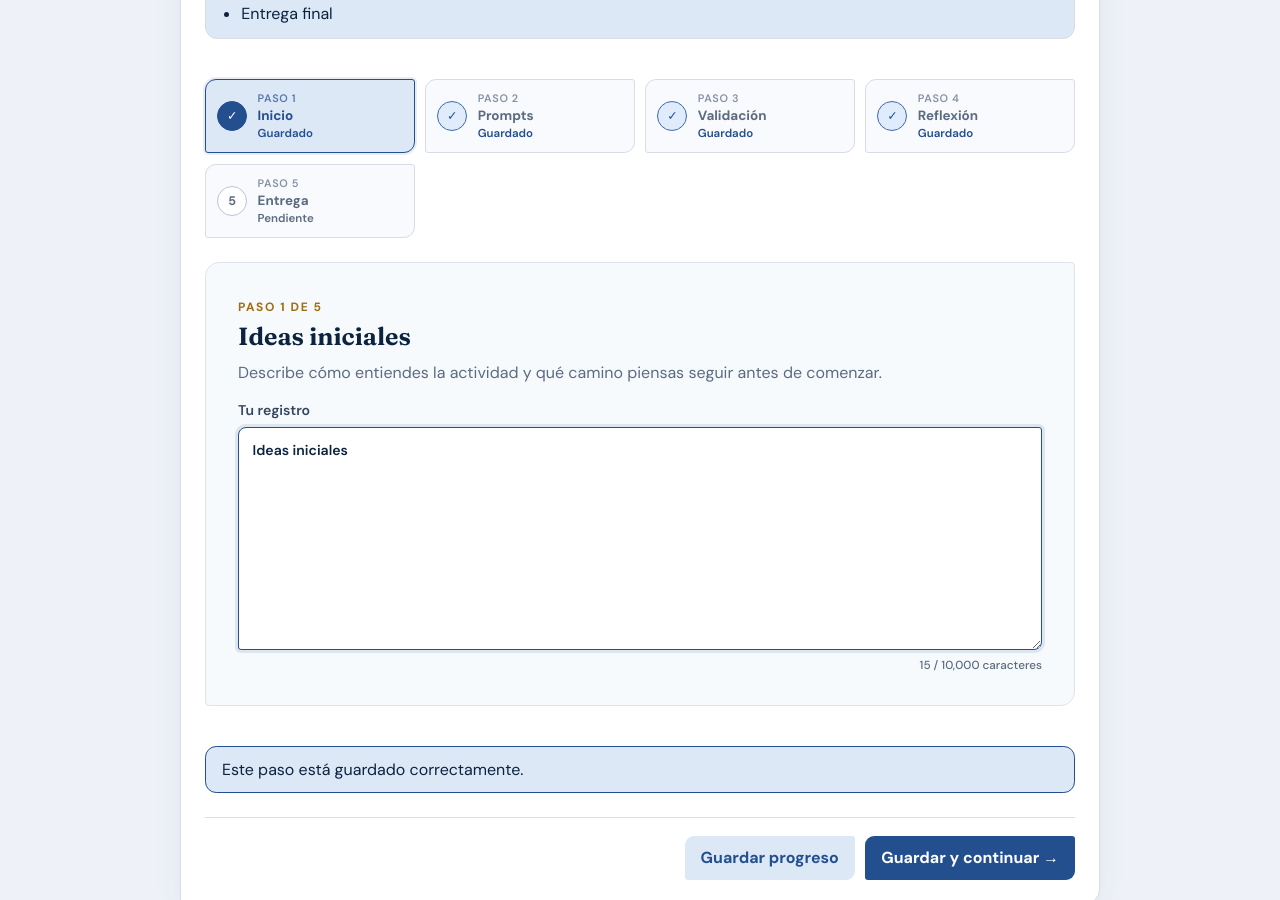
Scenario: StudentActivityView - nivel declarado de IA › calcula el progreso con pasos guardados y no con el paso actualmente visible
(page scrolled)
Check: the elements with class "step-save-status" read "Guardado", "Guardado", "Guardado", "Guardado", "Pendiente", in this order, box [258,126,313,141]; [478,126,534,141]; [698,126,753,141]; [918,126,978,141]; [258,211,314,226]
Step 1. Replace the text in the text box labelled "Tu registro 15 / 10,000 caracteres" with "Idea modificada sin guardar" → (640, 538), box [238,427,1042,650]
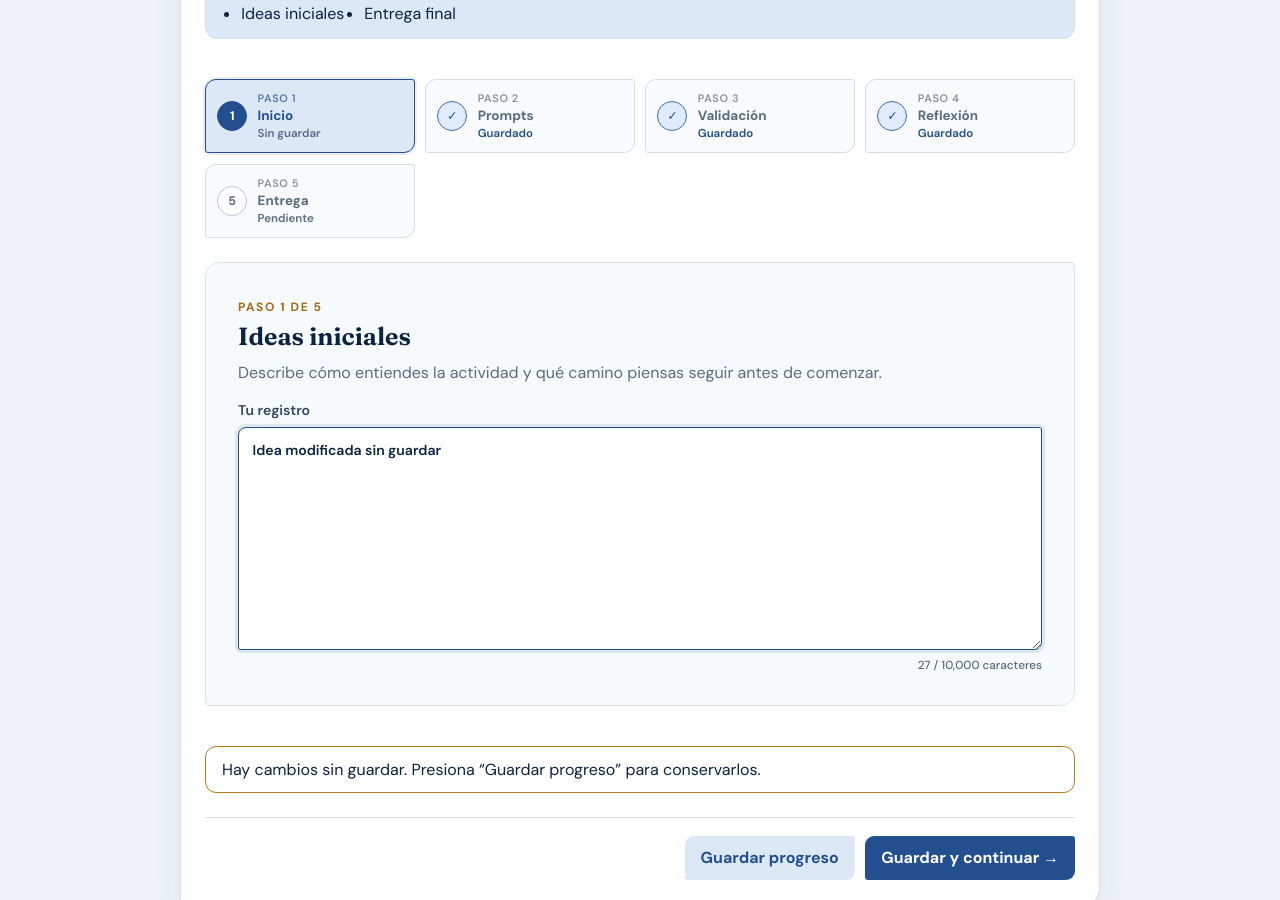
Check: the text with class "step-save-status" reads "Sin guardar", box [258,126,321,141]
Check: the text "Ideas iniciales" is shown, box [241,3,344,24]
Step 2. Click the button with class "secondary" → (770, 858), box [685,836,855,880]
(page scrolled)
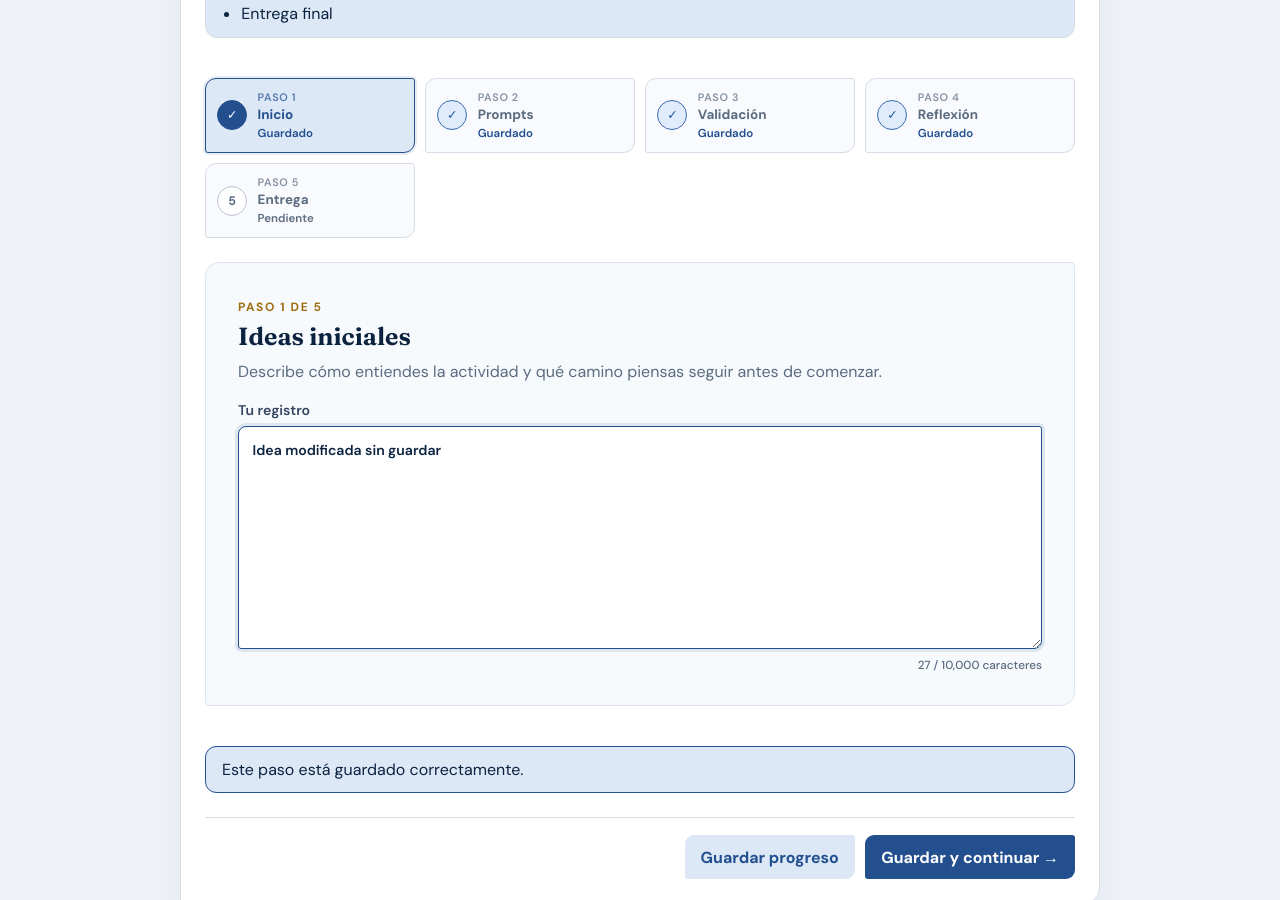
Check: the 1st text with class "step-save-status" reads "Guardado", box [258,126,313,141]
Check: the text "Ideas iniciales" is gone
